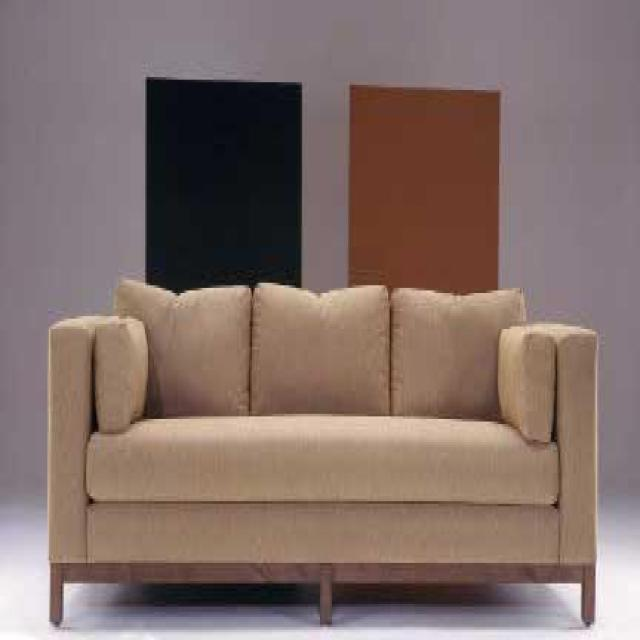sofa: (47, 274, 598, 631)
